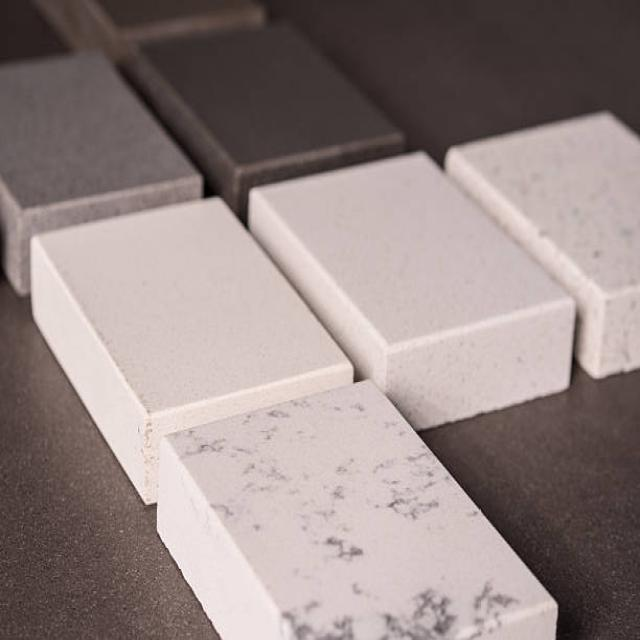Metamorphic: (2, 5, 633, 640)
